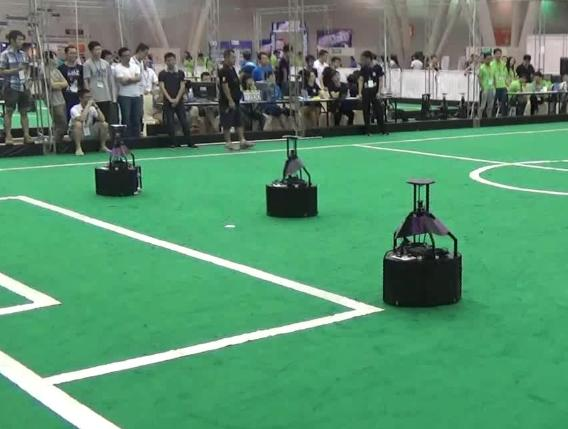robot: (380, 177, 463, 308), (261, 134, 321, 218), (91, 124, 146, 199)
